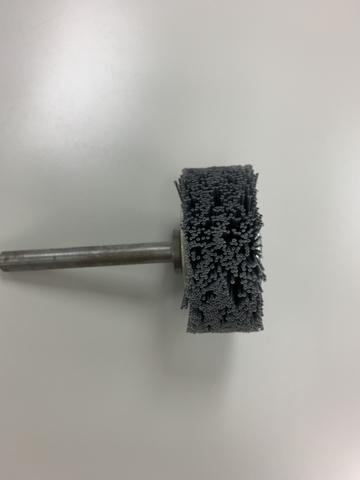Wheel Brush: (10, 161, 269, 335), (95, 158, 275, 348)
